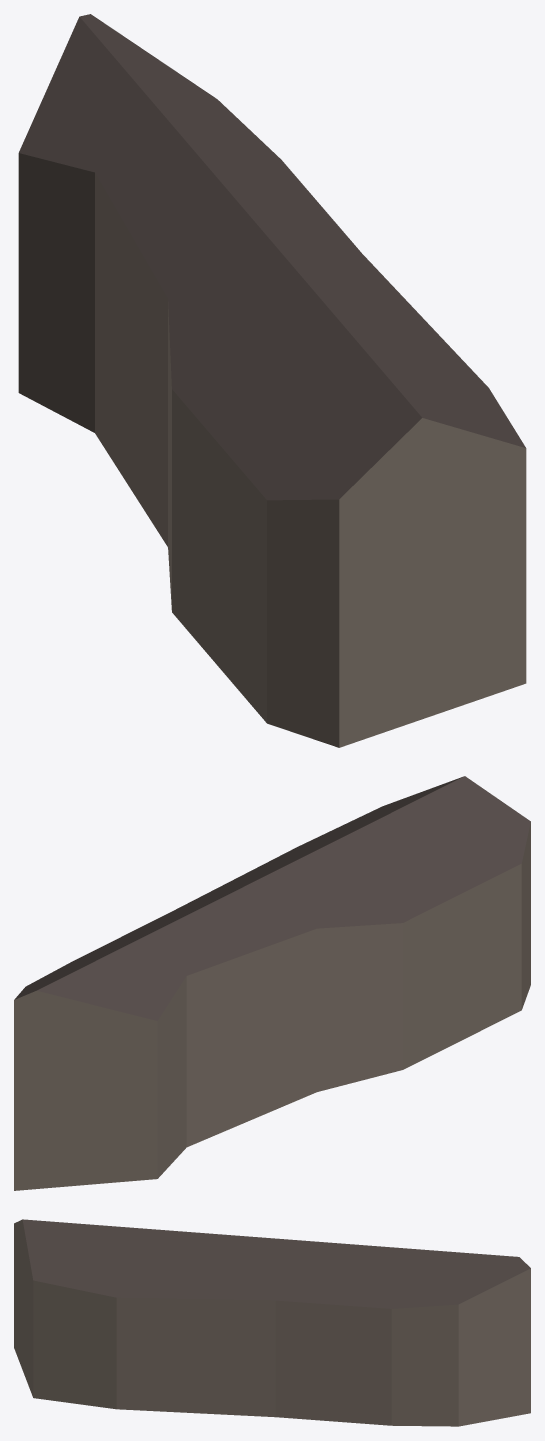
3 views of the same model, one above another, from view 1: azimuth 30°, elevation 25°; view 2: azimuth 150°, elevation 25°; view 3: azimuth 270°, elevation 25° (orthographic). The views are drawn at different scales.
Visible parts, largest first — view 1: HP-w682223766; view 2: HP-w682223766; view 3: HP-w682223766.
Part boxes in pixels (box(x1,y1,x2,y2)): HP-w682223766: box(18, 14, 526, 747); HP-w682223766: box(14, 776, 530, 1190); HP-w682223766: box(14, 1219, 530, 1426).
Size of the model in its own units: 14.86 by 12.15 by 37.79.
